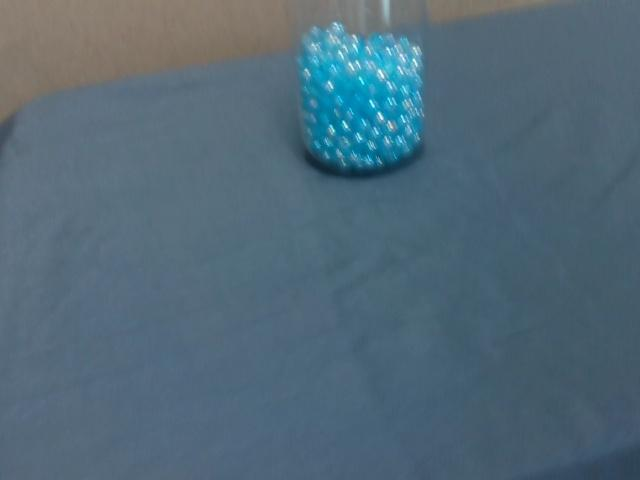blue_bottle: (296, 19, 425, 169)
